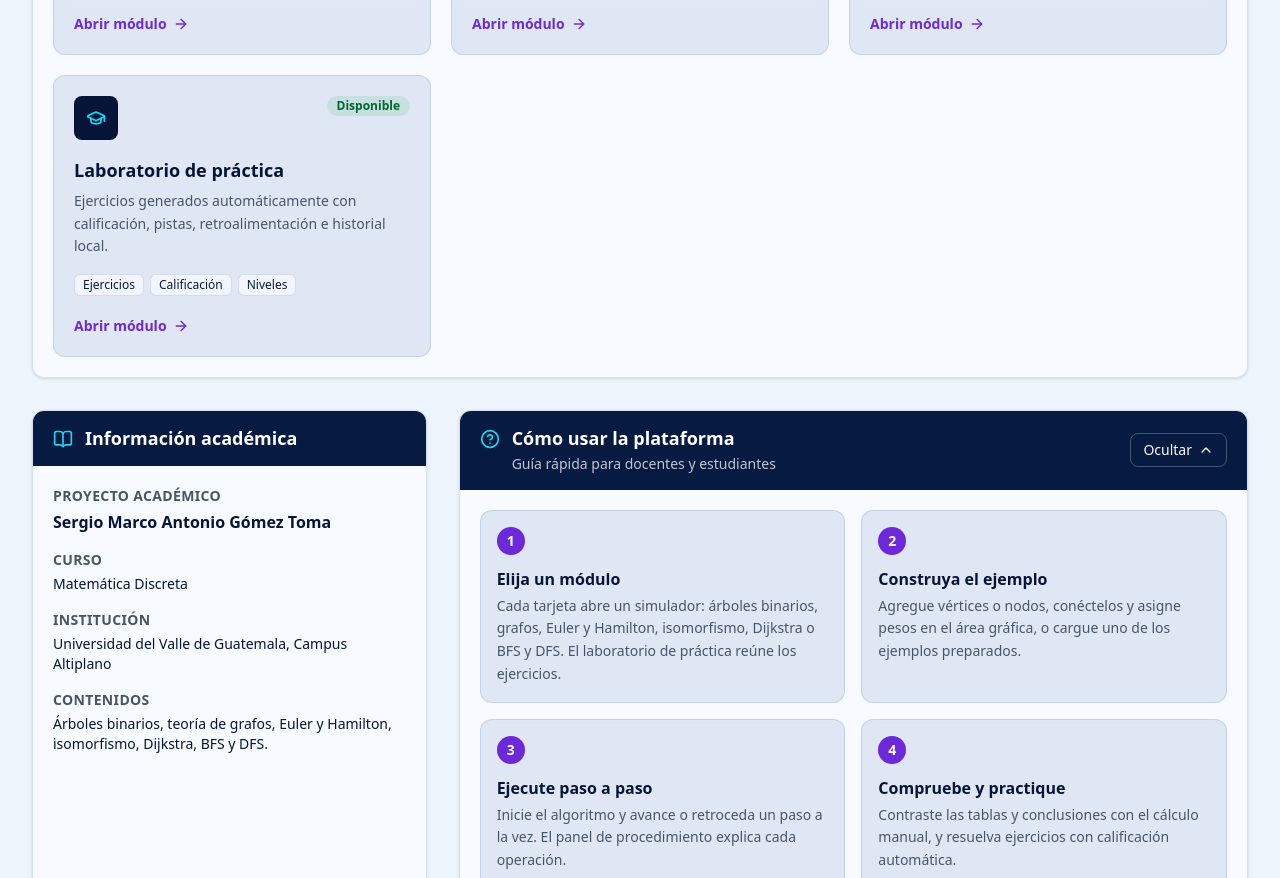
Test: panel principal › permite ocultar y mostrar la ayuda, y recuerda la elección
Later steps or results of the test are not shown.
(page scrolled)
Click the button "Ocultar" at [1179, 450], box [1130,434,1227,468]
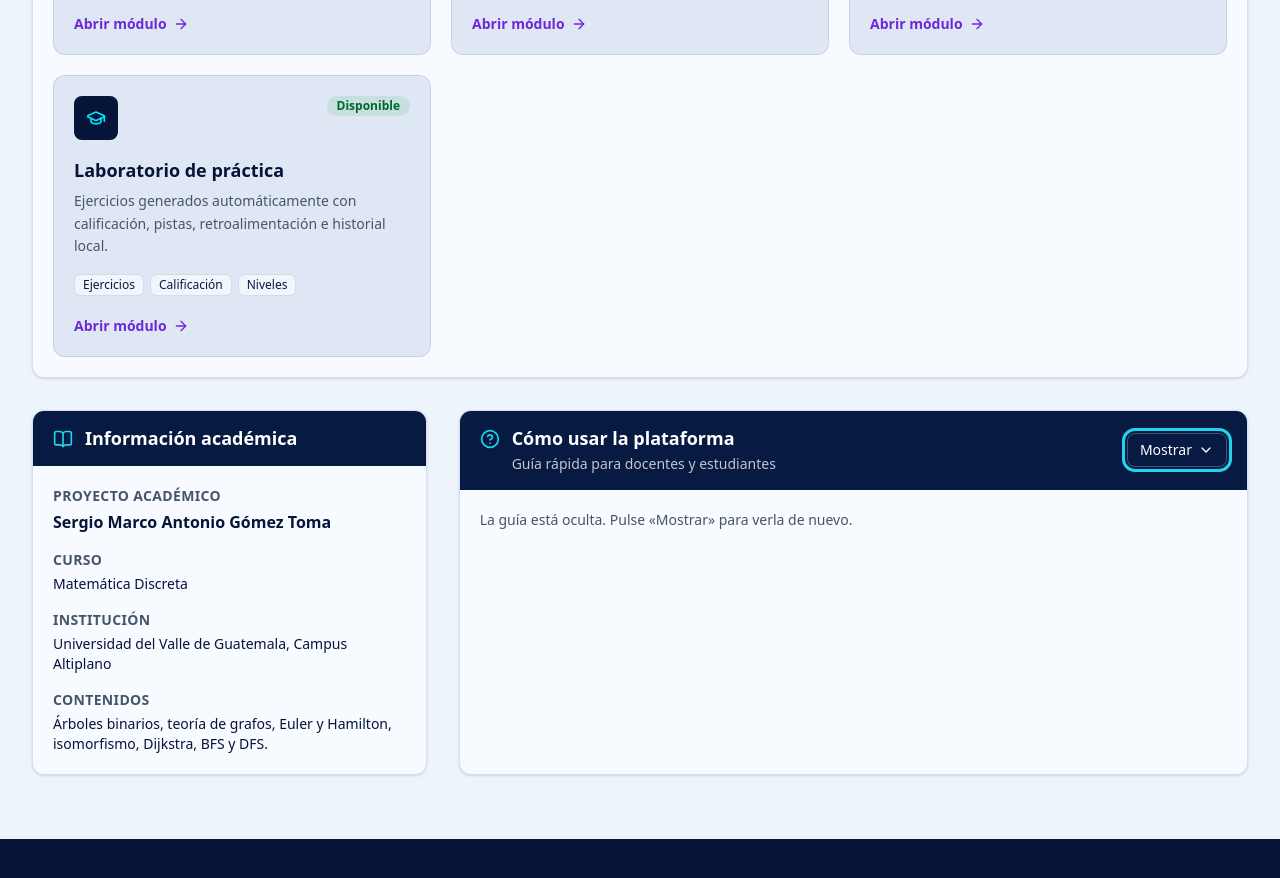
expect the button named "Ocultar" is collapsed: met, box [1127,434,1227,468]
